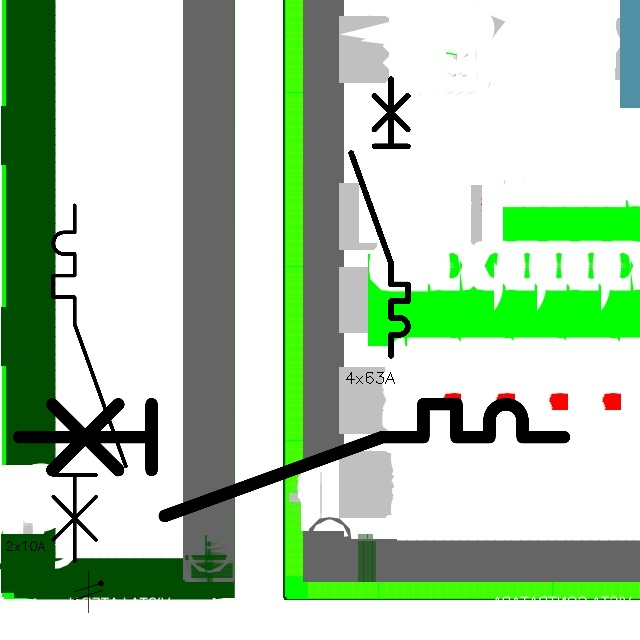interruptor_termomagnetico: (5, 390, 578, 530), (44, 196, 135, 570), (344, 72, 415, 363)
